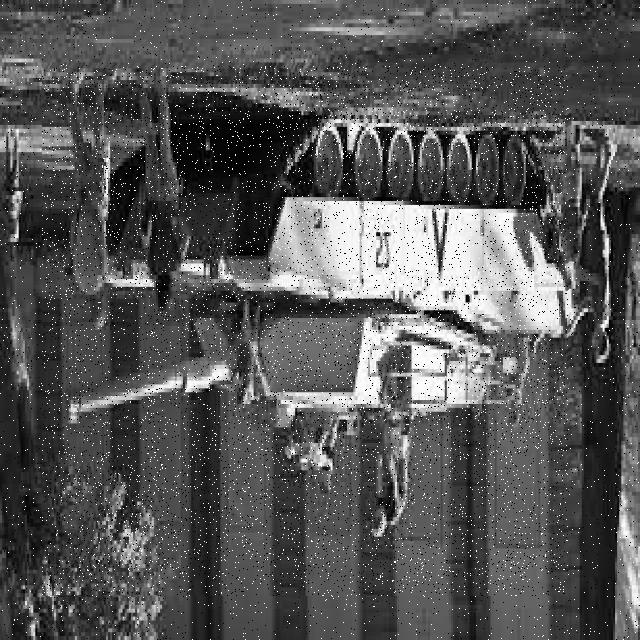MIL_MBT: (42, 66, 568, 596)
